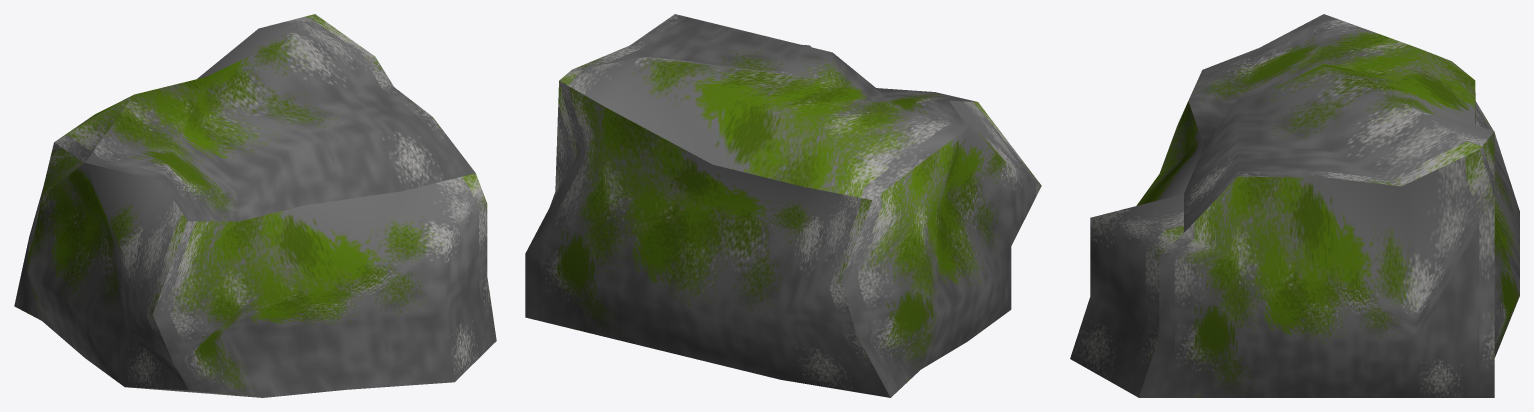
File: rock_01.FBX
3 views of the same model, side by side, from view 1: azimuth 30°, elevation 25°; view 2: azimuth 150°, elevation 25°; view 3: azimuth 270°, elevation 25° (orthographic). The views are drawn at different scales.
Parts seen in each view (by area): view 1: Box001; view 2: Box001; view 3: Box001.
Boxes of the visible parts, x1=… form: Box001: x1=14, y1=14, x2=496, y2=397; Box001: x1=525, y1=14, x2=1041, y2=397; Box001: x1=1070, y1=14, x2=1519, y2=397.
Bounding box in the file's own units: 57.06 × 34.97 × 57.3.
